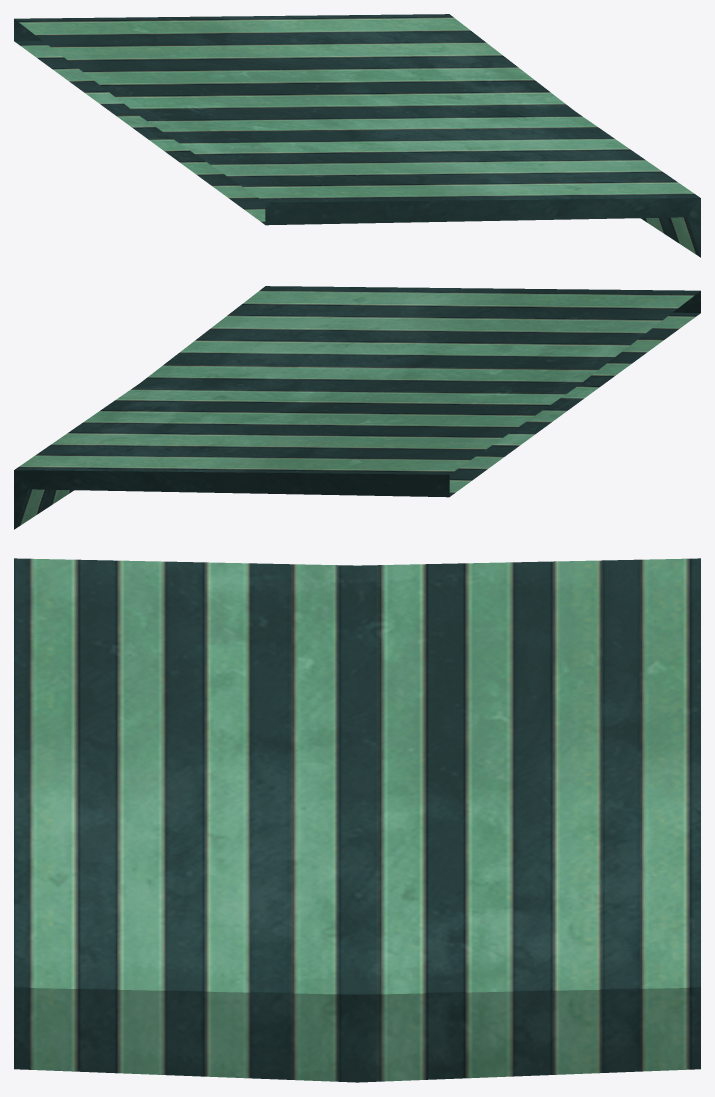
The model's file is Prop_Canopy_02.fbx.
3 views of the same model, one above another, from view 1: azimuth 30°, elevation 25°; view 2: azimuth 150°, elevation 25°; view 3: azimuth 270°, elevation 25° (orthographic). The views are drawn at different scales.
Visible parts, largest first — view 1: Prop_Canopy_02; view 2: Prop_Canopy_02; view 3: Prop_Canopy_02.
Part boxes in pixels (box(x1,y1,x2,y2)): Prop_Canopy_02: box(14, 14, 700, 257); Prop_Canopy_02: box(14, 286, 700, 529); Prop_Canopy_02: box(14, 558, 700, 1082).
Size of the model in its own units: 250 by 93.88 by 250.
